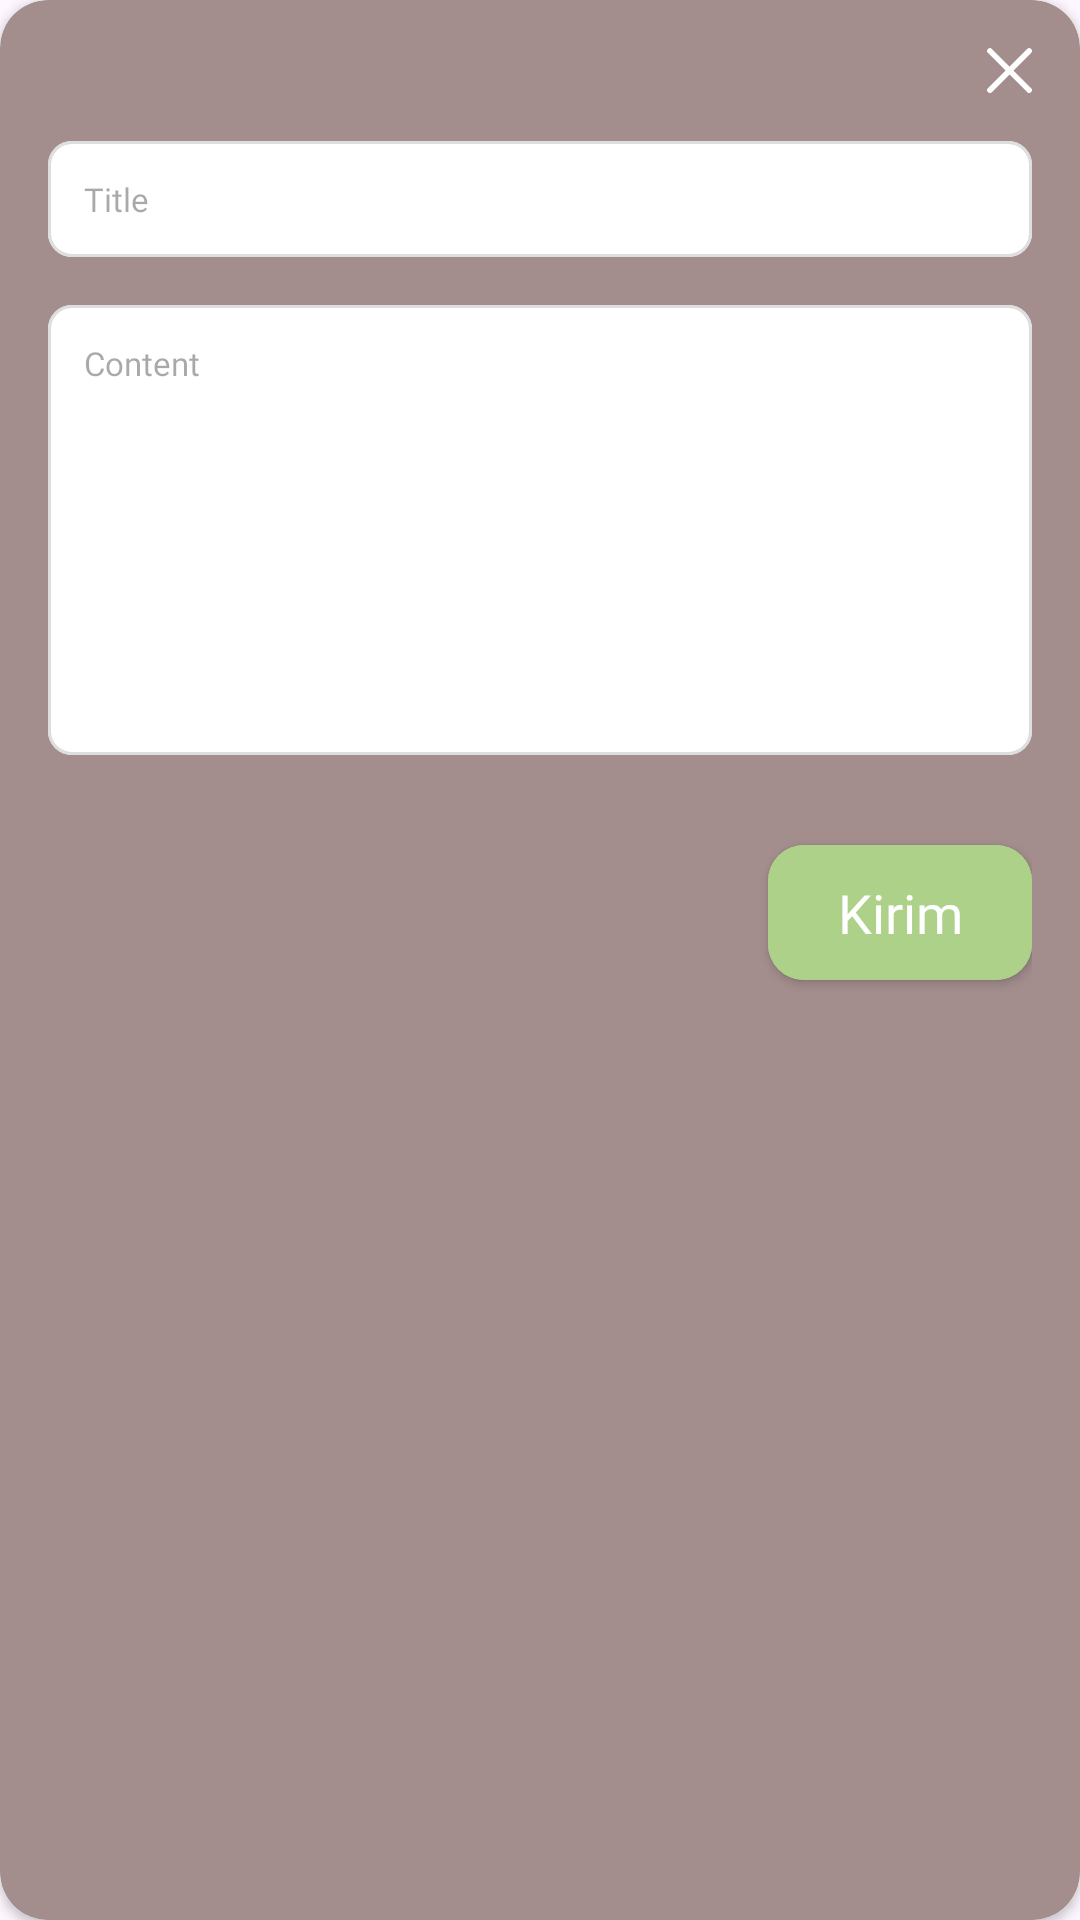

Icon click points for this 1080w x 1920h phone screenshot, format [x,y]:
Icon popup close: [1009,70]
